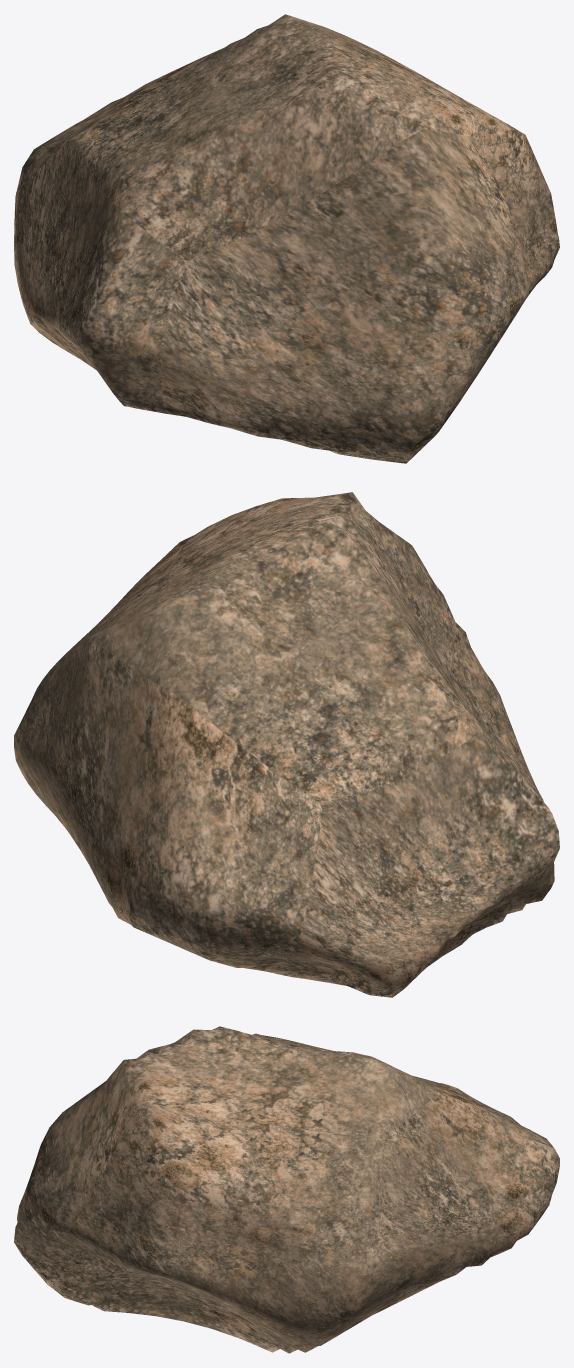
The model's file is rock1.fbx.
3 renders of one model, top to bottom at view 1: azimuth 30°, elevation 25°; view 2: azimuth 150°, elevation 25°; view 3: azimuth 270°, elevation 25°, orthographic. The views are drawn at different scales.
Visible parts, largest first — view 1: Cube; view 2: Cube; view 3: Cube.
Part boxes in pixels (x1,y1,x2,y2): Cube: (14, 14, 559, 463); Cube: (14, 492, 559, 997); Cube: (14, 1026, 559, 1353).
Size of the model in its own units: 575 by 420 by 709.
